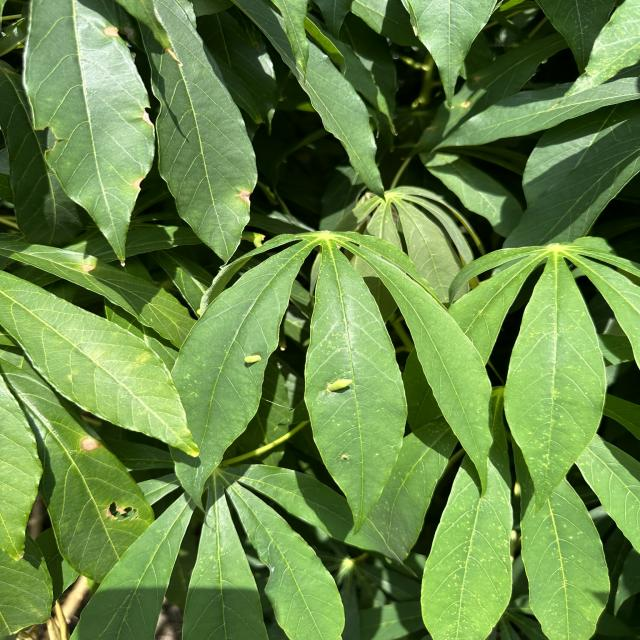Mosca: (317, 367, 364, 404), (327, 443, 366, 472), (241, 342, 273, 373)
